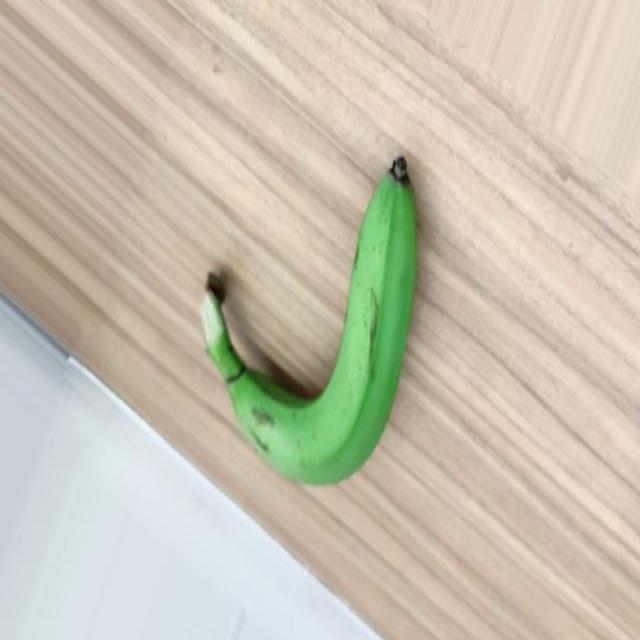Unripe: (198, 156, 420, 488)
